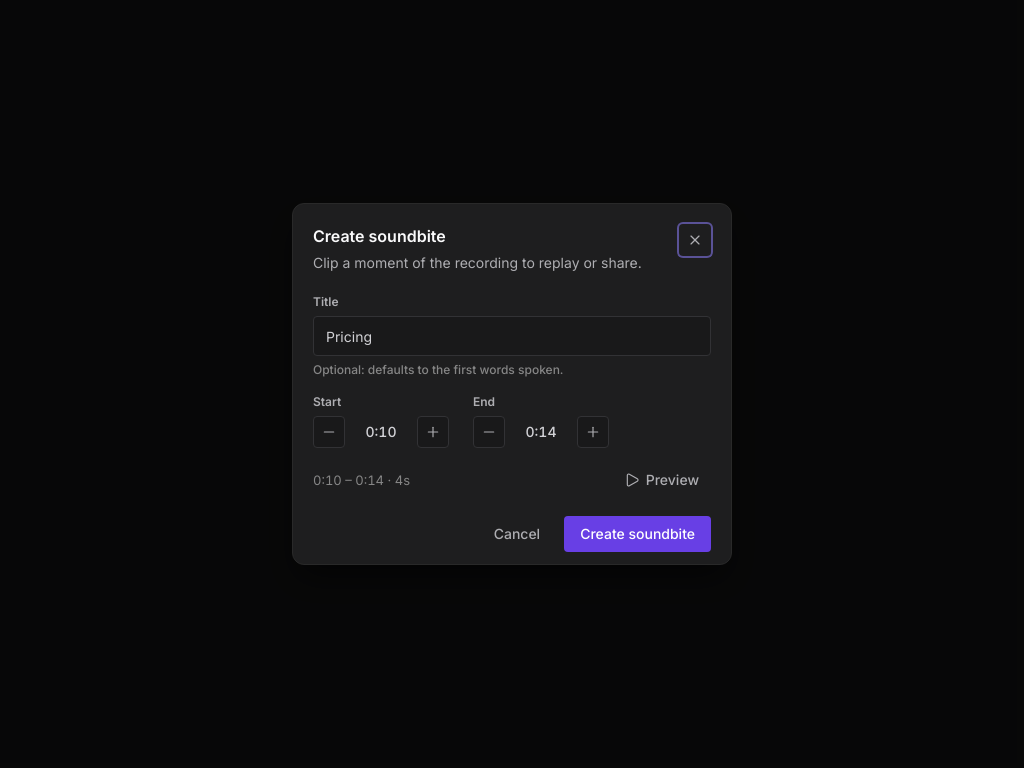
Test: CreateSoundbiteModal › snaps the range to whole seconds and nudges it in 1 s steps
This screenshot has width=1024, height=768.
Check: the text "0:10 – 0:14 · 4s" is shown, box [313,471,410,489]
What coordinates should you click on to do the following:
click the button named "End 1 second later"
I would click on:
 (593, 432)
Its box is [577,416,609,448].
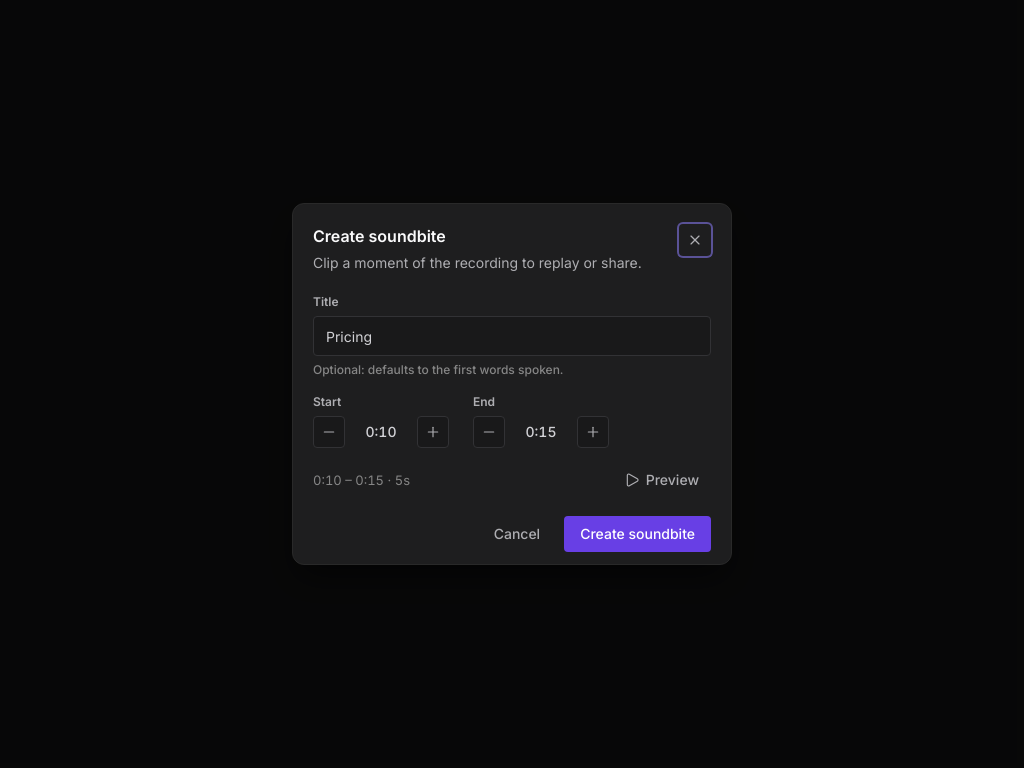
What coordinates should you click on to do the following:
click the button named "Start 1 second earlier"
I would click on:
 (329, 432)
Its box is [313,416,345,448].
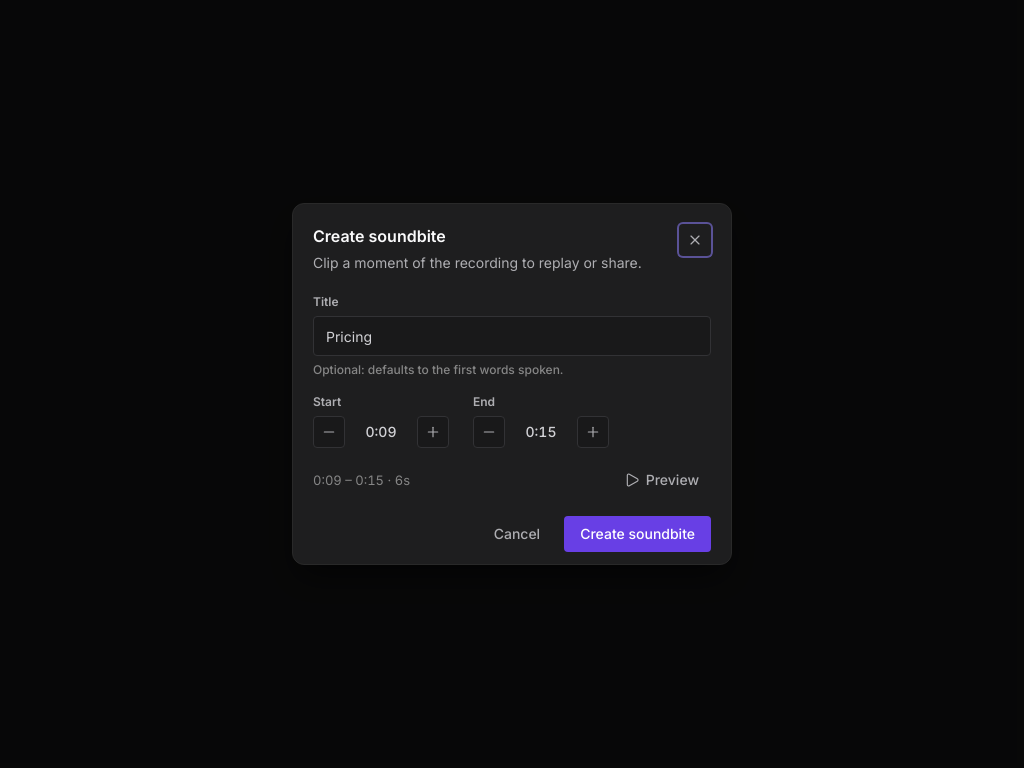
Check: the field labelled "Title" holds "Pricing", box [313,316,711,356]
Check: the text "0:09 – 0:15 · 6s" is shown, box [313,471,410,489]
